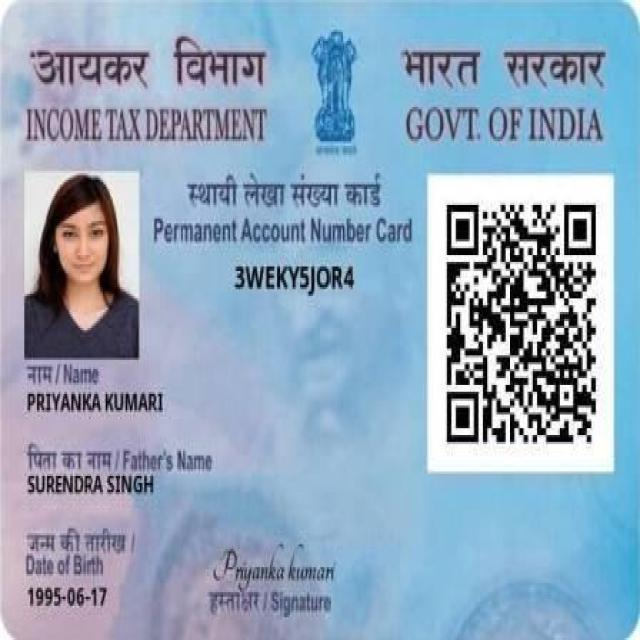pan_card: (2, 2, 640, 640)
